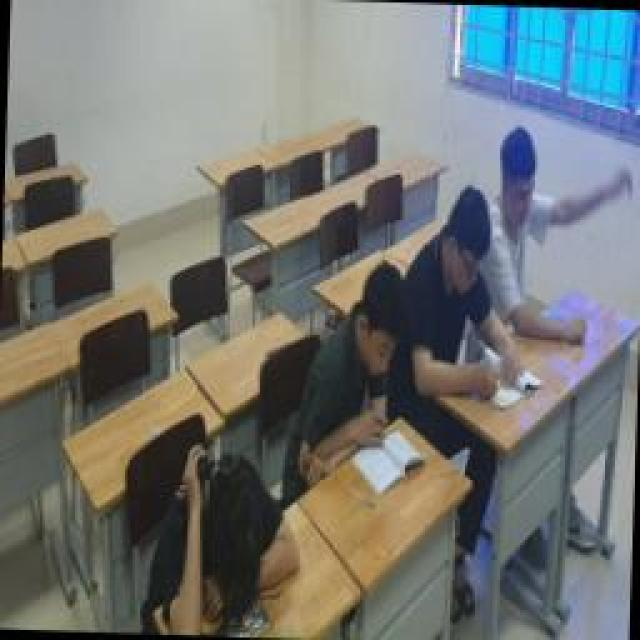sleep: (148, 442, 302, 640)
study: (402, 182, 530, 398), (292, 265, 408, 477), (485, 122, 593, 338)
